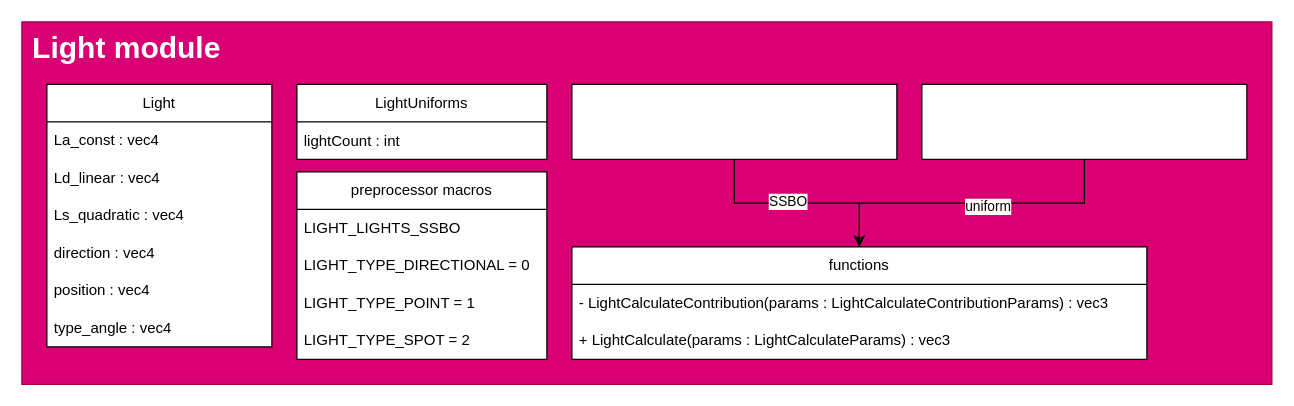
Some shapes in this 1294 by 406 pixel diagram are drawn without their labels. Here are the shapes that lost their labels. From the top down, the centre of each, then its label:
the point at 734,121: lightSources : Light[]
the point at 1084,121: lightData : LightUniforms
